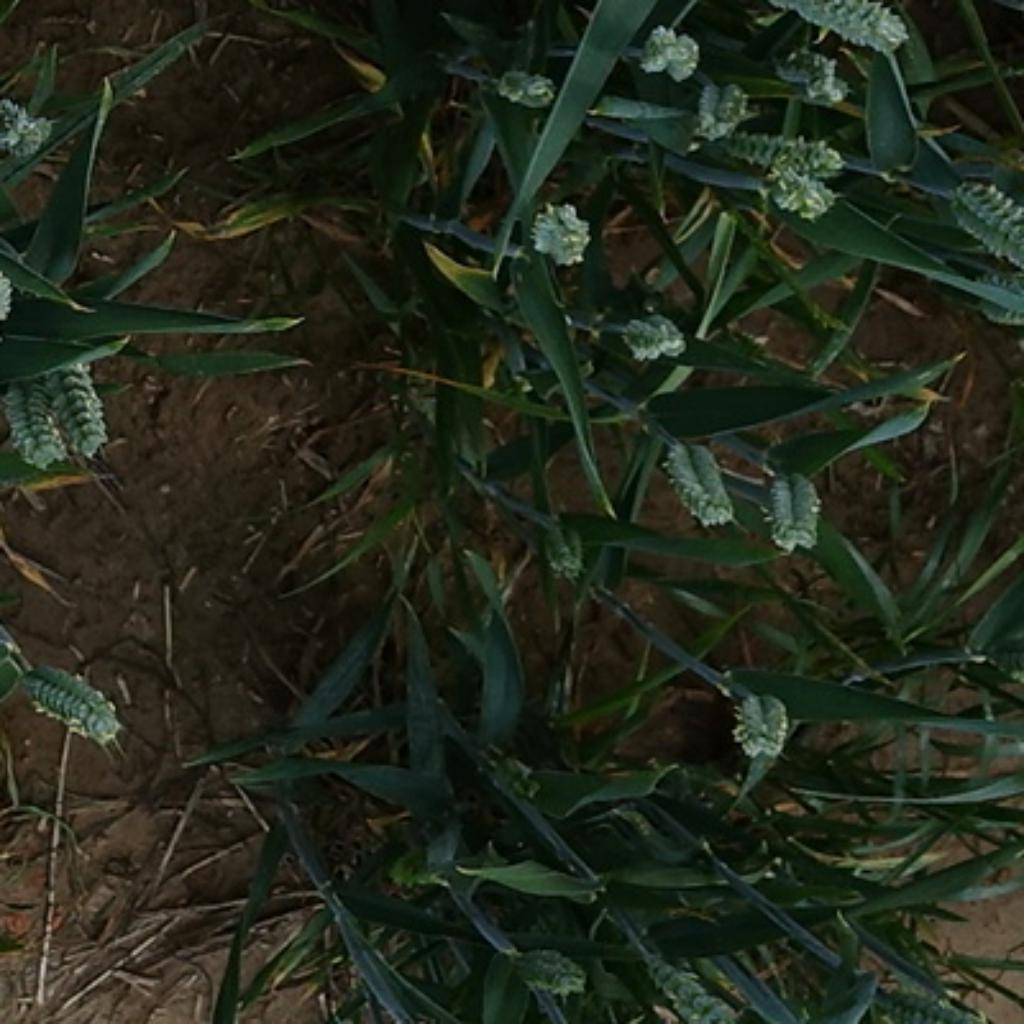0-0: (12, 652, 139, 748), (25, 353, 120, 463), (739, 0, 916, 56), (936, 168, 1024, 279), (632, 950, 748, 1024), (742, 158, 857, 232), (768, 35, 870, 117), (655, 436, 739, 535), (724, 112, 844, 181), (0, 368, 74, 468), (496, 934, 591, 1000), (724, 683, 801, 762), (514, 192, 596, 266), (860, 981, 1001, 1024), (468, 53, 560, 112), (627, 15, 704, 81), (762, 470, 823, 552), (533, 506, 587, 596), (611, 302, 688, 363), (959, 264, 1024, 334), (0, 81, 58, 158), (691, 76, 747, 133)
